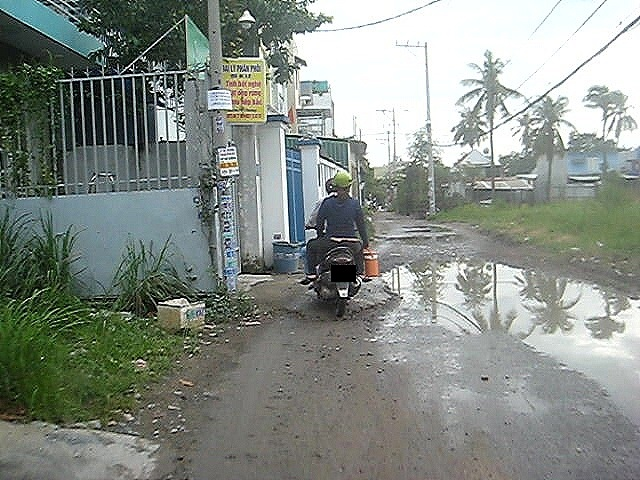hole: (381, 251, 640, 444), (376, 234, 471, 244), (402, 224, 457, 234)
